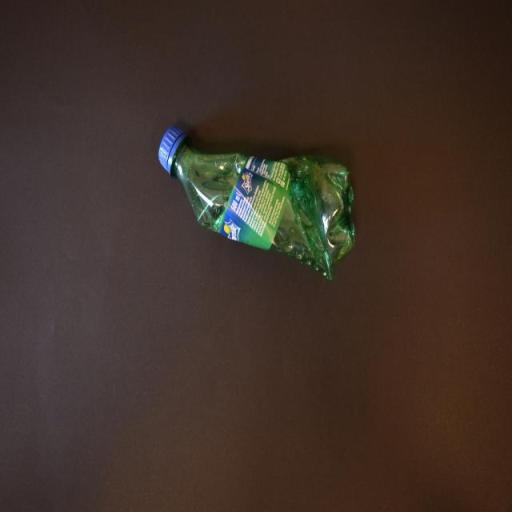plastic: (159, 124, 355, 283)
